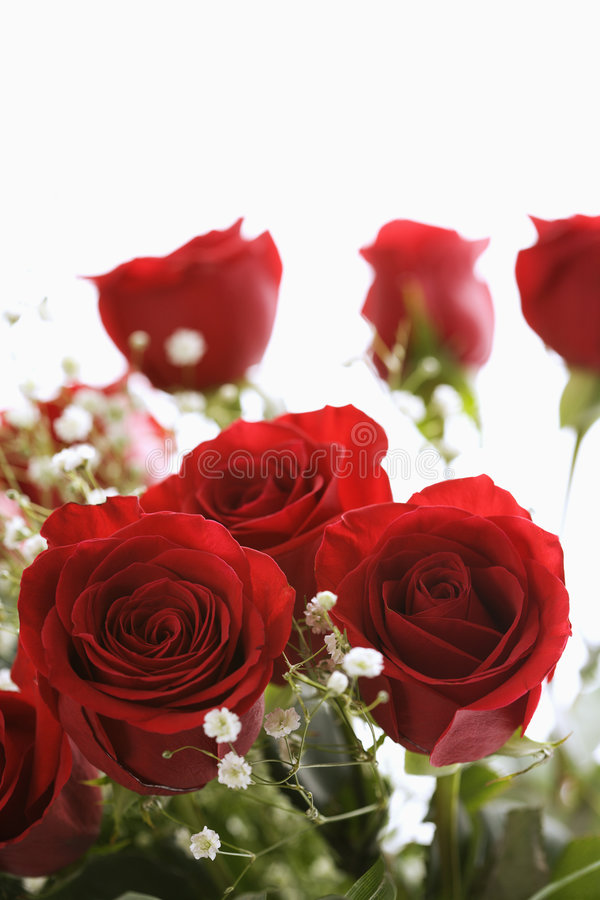RedRose: (5, 477, 303, 802), (318, 473, 571, 777), (146, 388, 402, 594), (80, 199, 302, 406), (354, 190, 493, 421), (0, 670, 115, 886), (505, 178, 600, 421)
